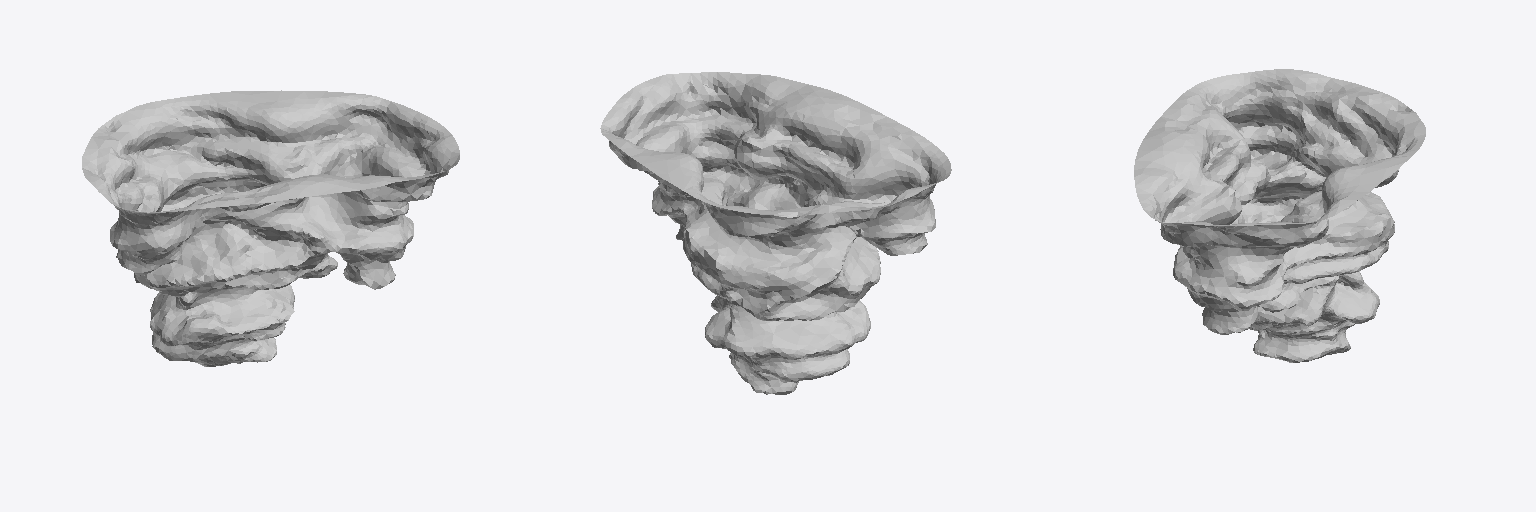
Rendered from LargeCaveRock_Blend.obj.
3 views of the same model, side by side, from view 1: azimuth 30°, elevation 25°; view 2: azimuth 150°, elevation 25°; view 3: azimuth 270°, elevation 25° (orthographic).
Parts seen in each view (by area): view 1: LargeCaveRock; view 2: LargeCaveRock; view 3: LargeCaveRock.
Part boxes in pixels (x1,y1,x2,y2): LargeCaveRock: (82, 90, 459, 366); LargeCaveRock: (600, 72, 951, 394); LargeCaveRock: (1134, 69, 1425, 362).
Bounding box in the file's own units: 88.38 × 60 × 69.01.